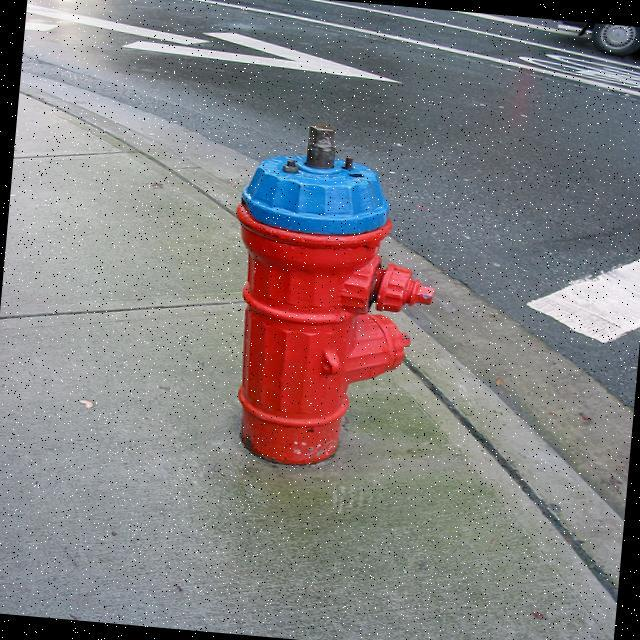fire_hydrant: (212, 119, 449, 476)
